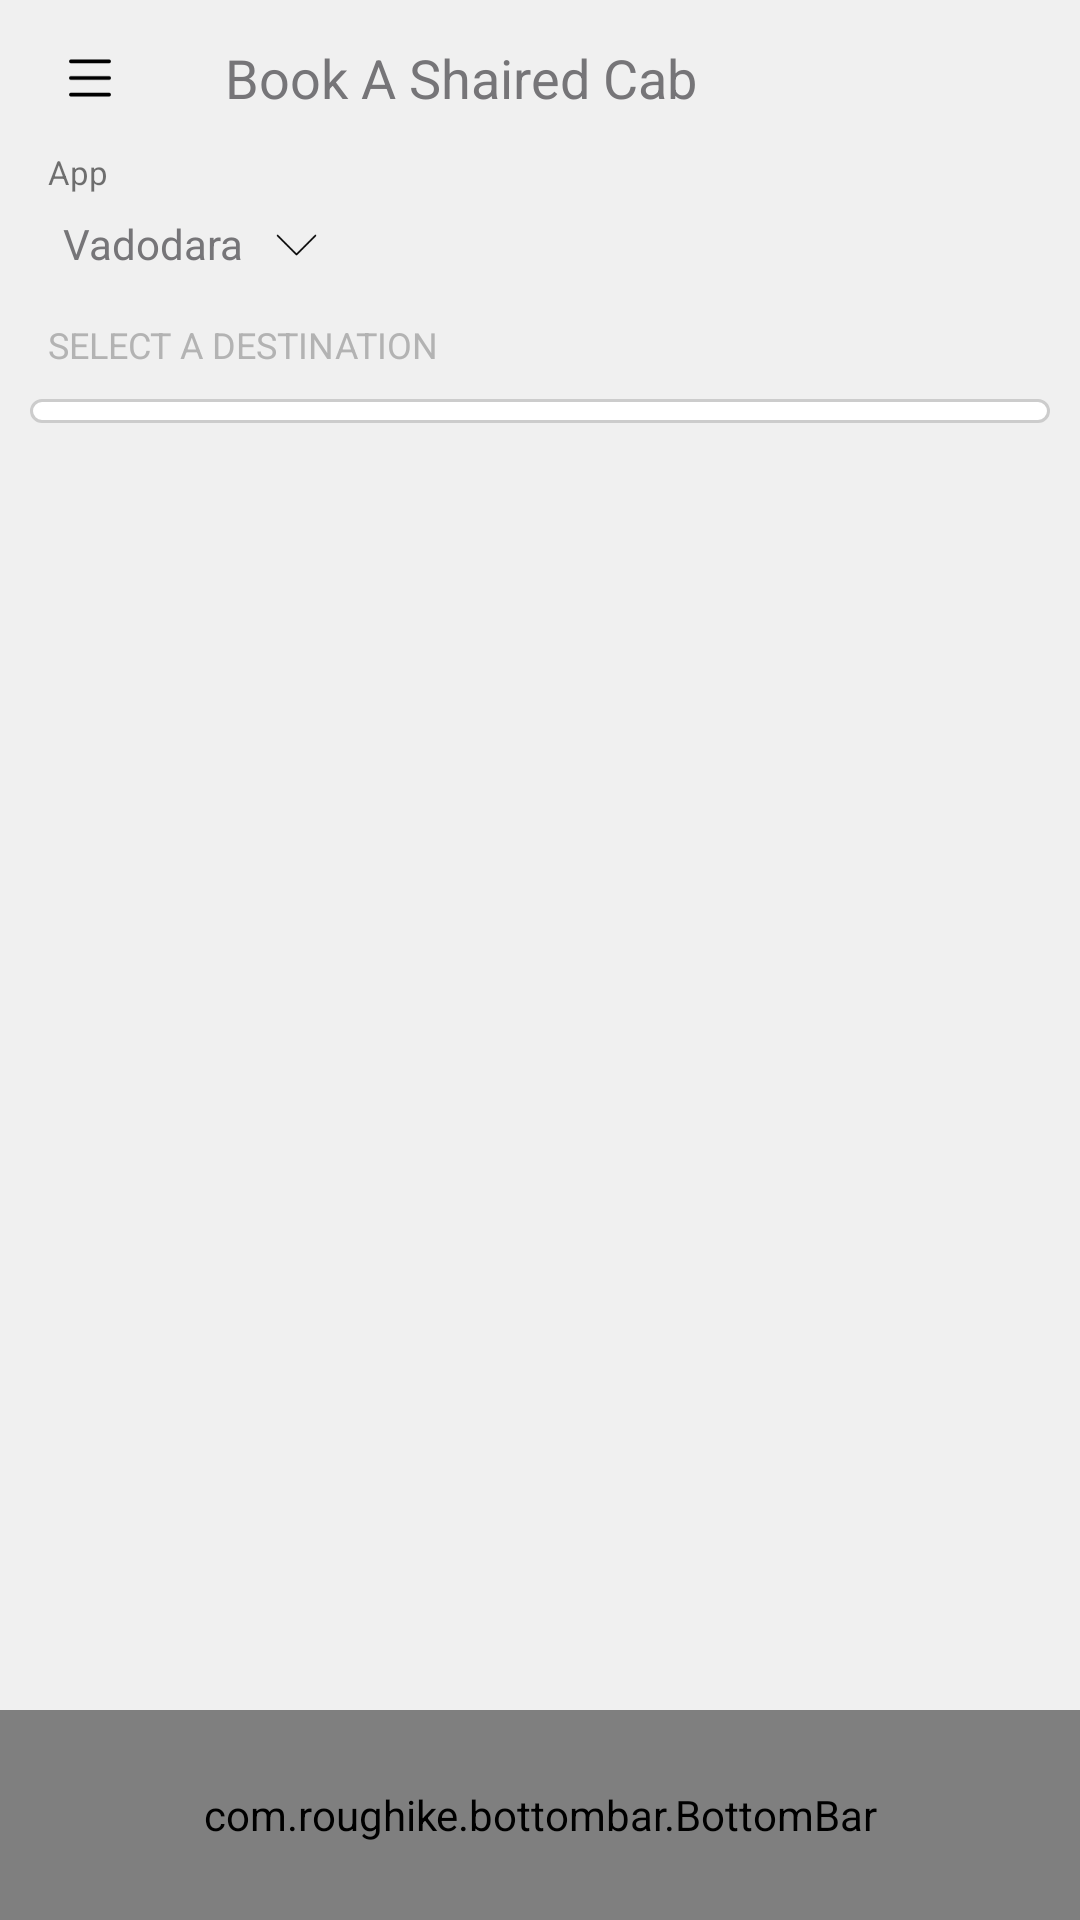

Named icons in this screenshot (1080*1920) and their bounding boxes, (x1, y1, x2, y2):
menu: (69, 59, 111, 97)
